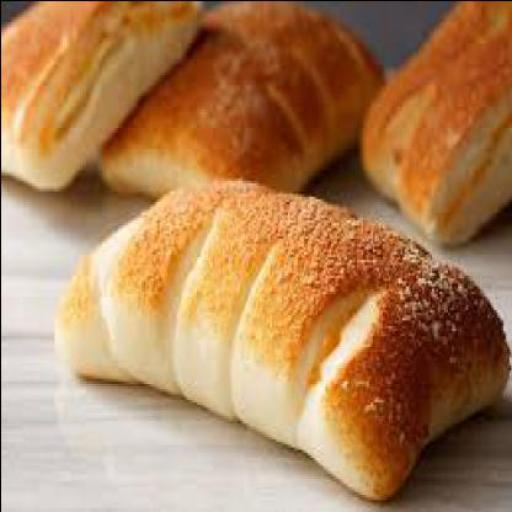biodegradable: (56, 174, 510, 496), (102, 1, 390, 203), (2, 1, 204, 182), (362, 1, 511, 245)
